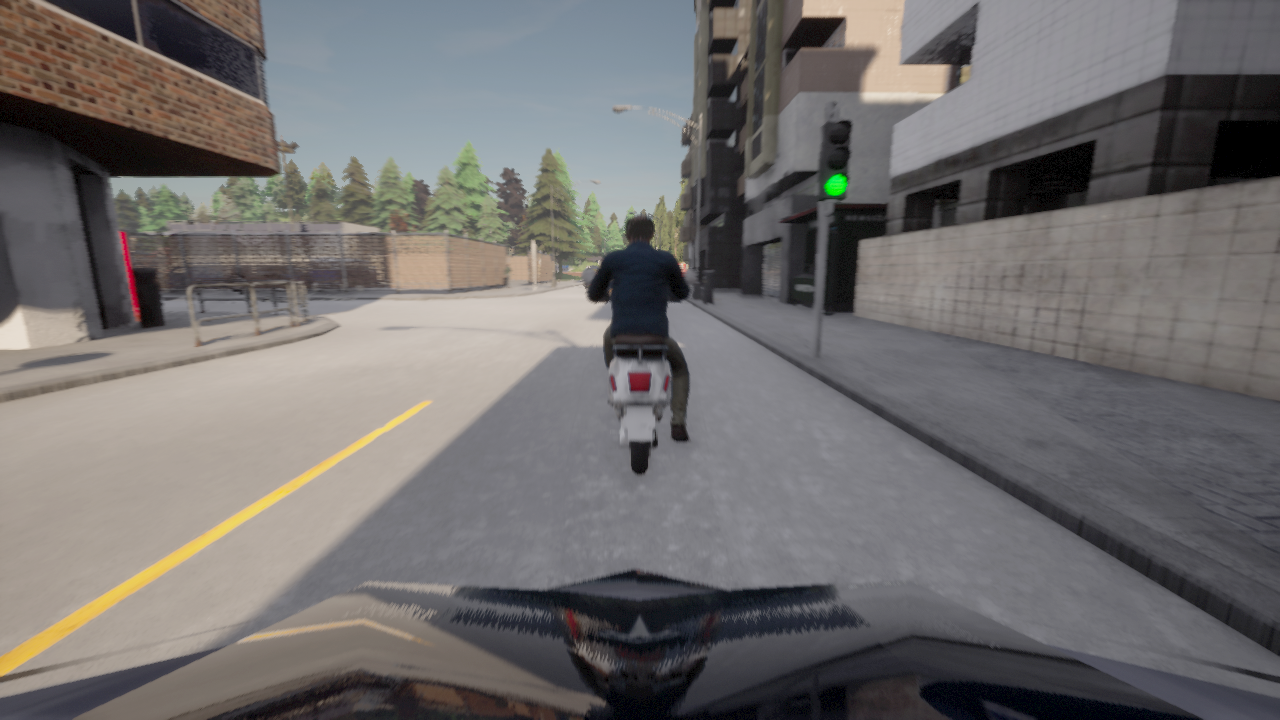cyclist: (0, 569, 1279, 719), (582, 268, 697, 475), (313, 257, 378, 288), (164, 267, 236, 288), (272, 266, 317, 288), (241, 269, 291, 288), (135, 262, 164, 288), (586, 285, 589, 288)
pedestrian: (505, 263, 513, 288)
